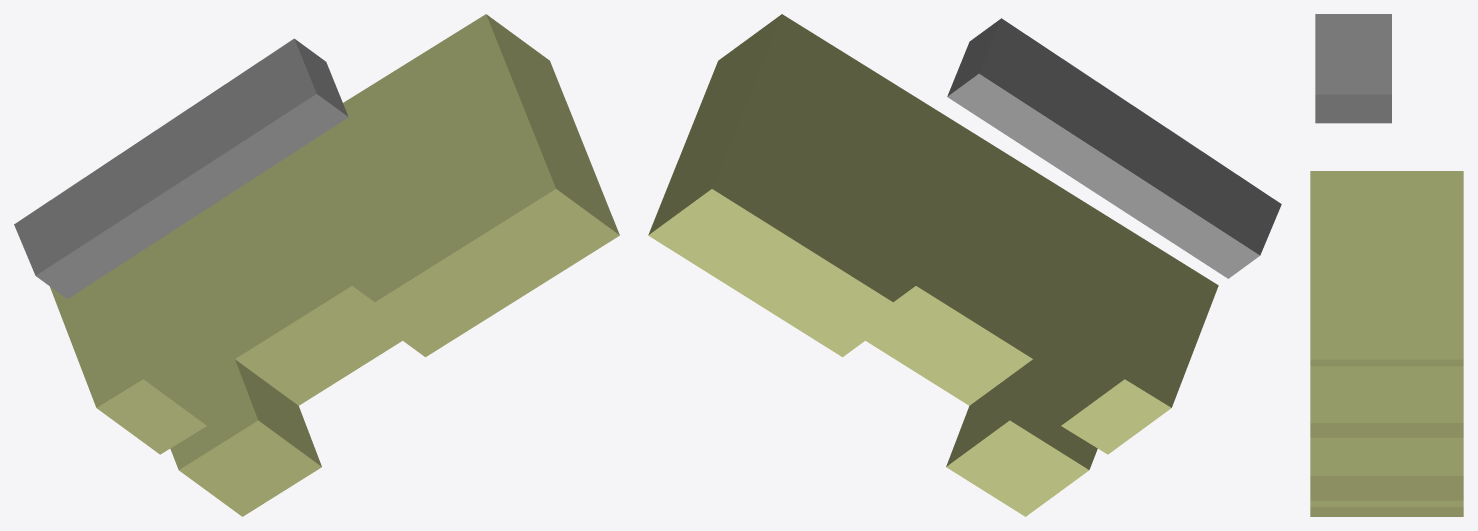
The picture shows the model from 3 angles, left to right: view 1: azimuth 30°, elevation 25°; view 2: azimuth 150°, elevation 25°; view 3: azimuth 270°, elevation 25°; orthographic projection. The views are drawn at different scales.
Visible parts, largest first — view 1: 0_3_0_1_2_1_1_0; view 2: 0_3_0_1_2_1_1_0; view 3: 0_3_0_1_2_1_1_0.
Part boxes in pixels (<box>): 0_3_0_1_2_1_1_0: <box>14,14,619,516</box>; 0_3_0_1_2_1_1_0: <box>648,14,1281,516</box>; 0_3_0_1_2_1_1_0: <box>1310,14,1463,516</box>.
Bounding box in the file's own units: 31.04 × 22.43 × 6.
